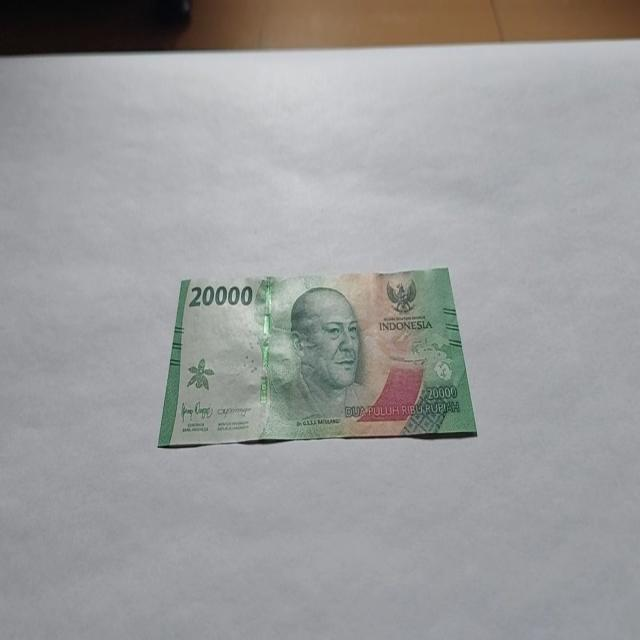dua puluh ribu rupiah: (156, 266, 478, 449)
